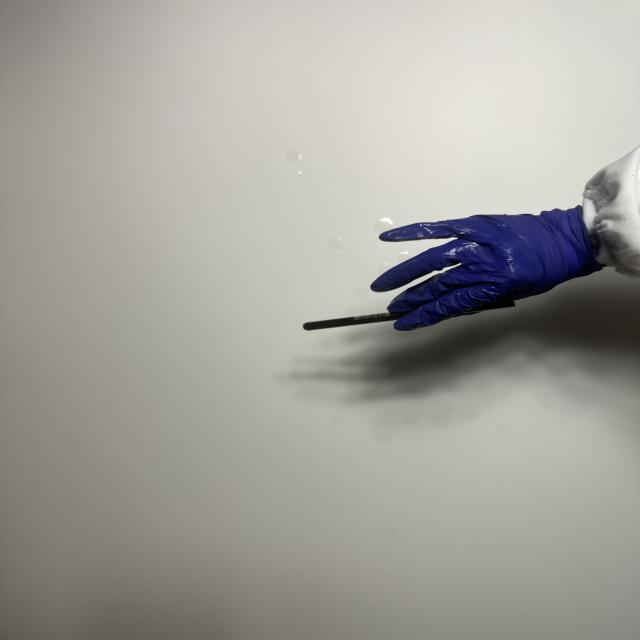gloves_contaminated: (370, 207, 600, 330)
